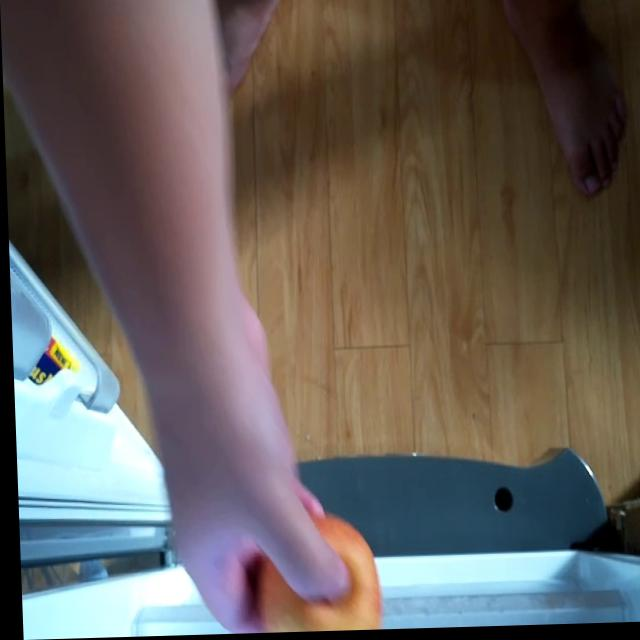apple: (250, 518, 379, 635)
